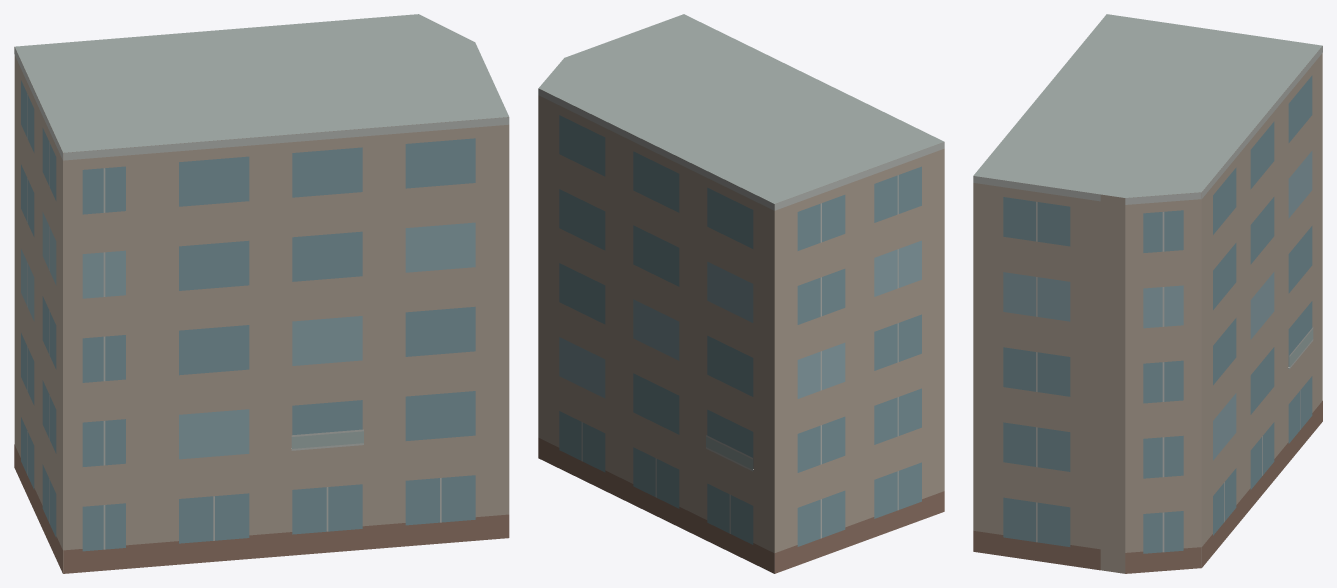
File: survey-upis-32537162.glb
The picture shows the model from 3 angles, left to right: view 1: azimuth 30°, elevation 25°; view 2: azimuth 150°, elevation 25°; view 3: azimuth 270°, elevation 25°; orthographic projection. The views are drawn at different scales.
Parts seen in each view (by area): view 1: survey-upis-32537162.tmp; view 2: survey-upis-32537162.tmp; view 3: survey-upis-32537162.tmp.
Part boxes in pixels (bbox=[...]): survey-upis-32537162.tmp: bbox=[14, 14, 509, 573]; survey-upis-32537162.tmp: bbox=[538, 14, 944, 573]; survey-upis-32537162.tmp: bbox=[973, 14, 1322, 573].
Size of the model in its own units: 13.87 by 13.2 by 11.14.
